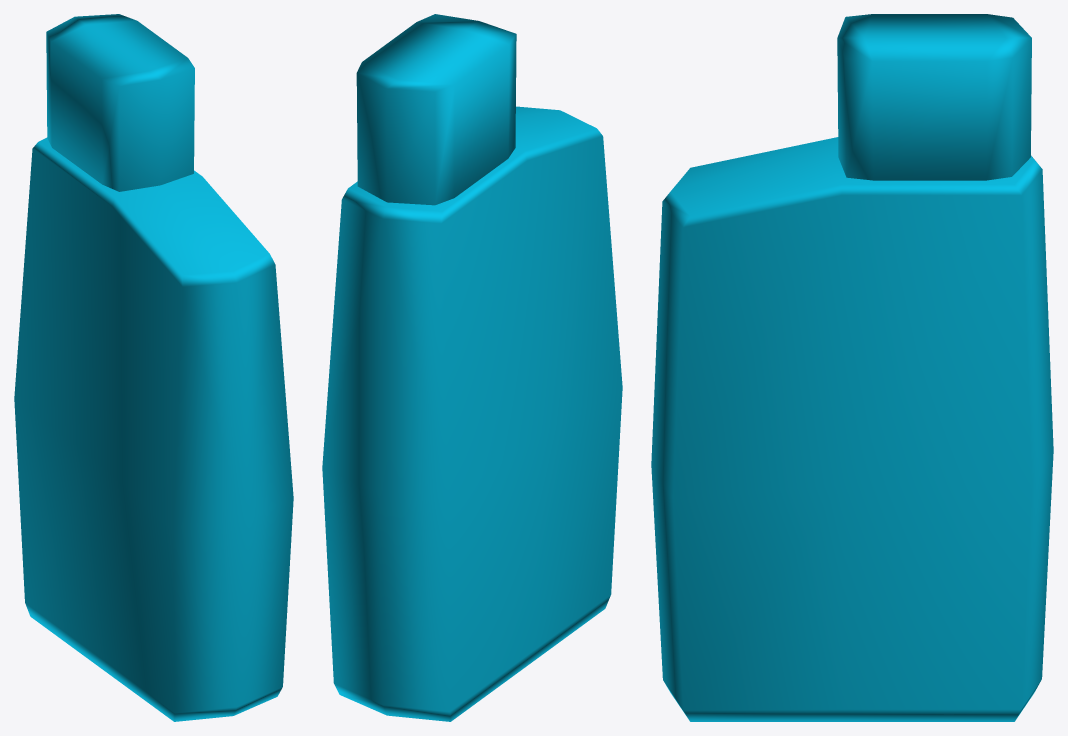
Rendered from Household_01_Lod0.fbx.
The picture shows the model from 3 angles, left to right: view 1: azimuth 30°, elevation 25°; view 2: azimuth 150°, elevation 25°; view 3: azimuth 270°, elevation 25°; orthographic projection. The views are drawn at different scales.
Visible parts, largest first — view 1: Household_01_Lod0; view 2: Household_01_Lod0; view 3: Household_01_Lod0.
Boxes of the visible parts, x1,y1,x2,y2 form: Household_01_Lod0: (14,14,293,721); Household_01_Lod0: (322,14,622,721); Household_01_Lod0: (651,14,1053,721).
Size of the model in its own units: 6.18 by 28.54 by 15.87.
